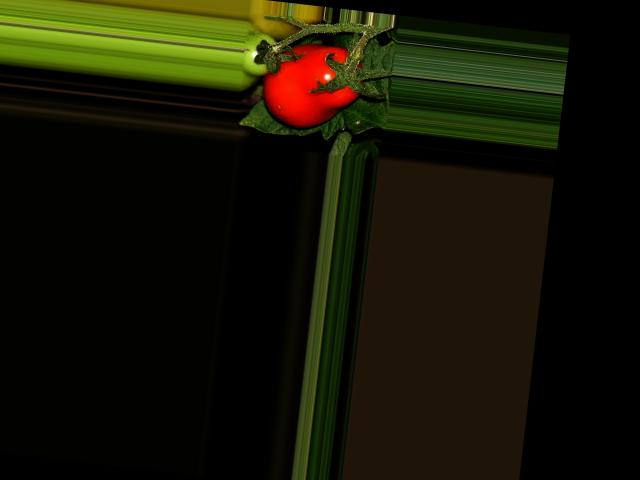tomato: (259, 38, 366, 134)
